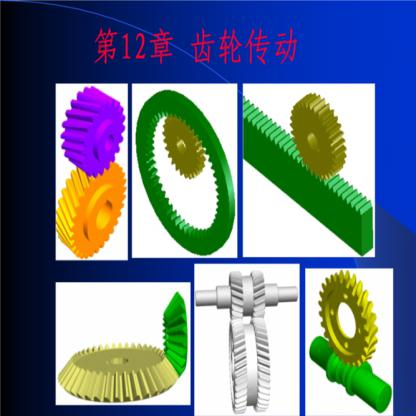FOD: (134, 84, 235, 256), (56, 343, 178, 407), (55, 158, 127, 258), (316, 265, 378, 368), (60, 85, 127, 180), (289, 88, 348, 181), (223, 310, 273, 415), (158, 287, 194, 377), (164, 109, 206, 181)
